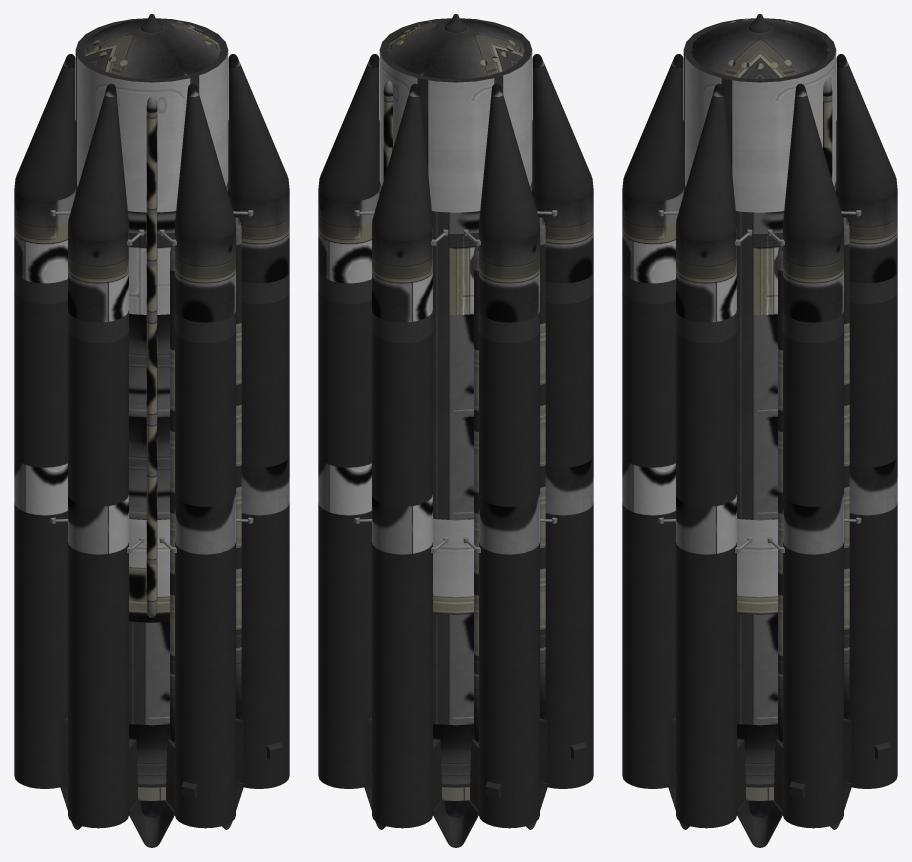
Rendered from fuel1_extended.fbx.
3 views of the same model, side by side, from view 1: azimuth 30°, elevation 25°; view 2: azimuth 150°, elevation 25°; view 3: azimuth 270°, elevation 25° (orthographic).
Visible parts, largest first — view 1: mesh; view 2: mesh; view 3: mesh.
Part boxes in pixels (x1,y1,x2,y2): mesh: (14, 14, 289, 847); mesh: (318, 14, 593, 847); mesh: (622, 14, 897, 847).
Size of the model in its own units: 4.15 by 14.36 by 4.5.
